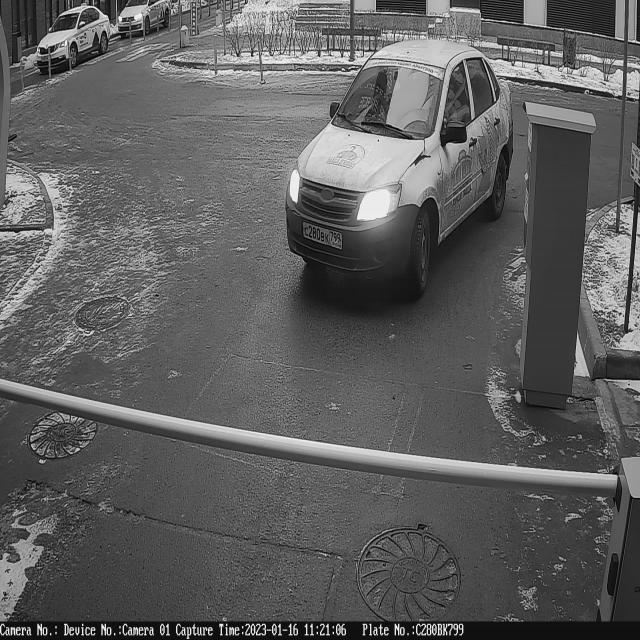car-plate-numbers: (299, 215, 347, 255)
